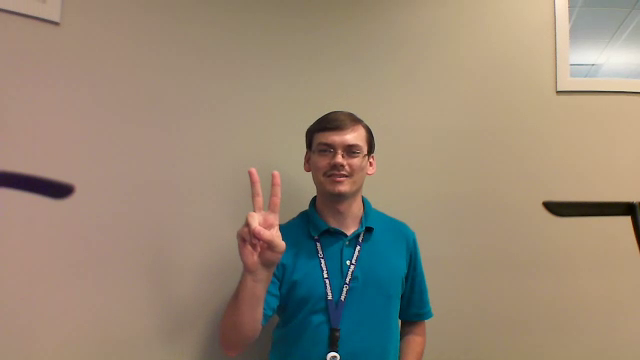peace: (232, 165, 292, 278)
